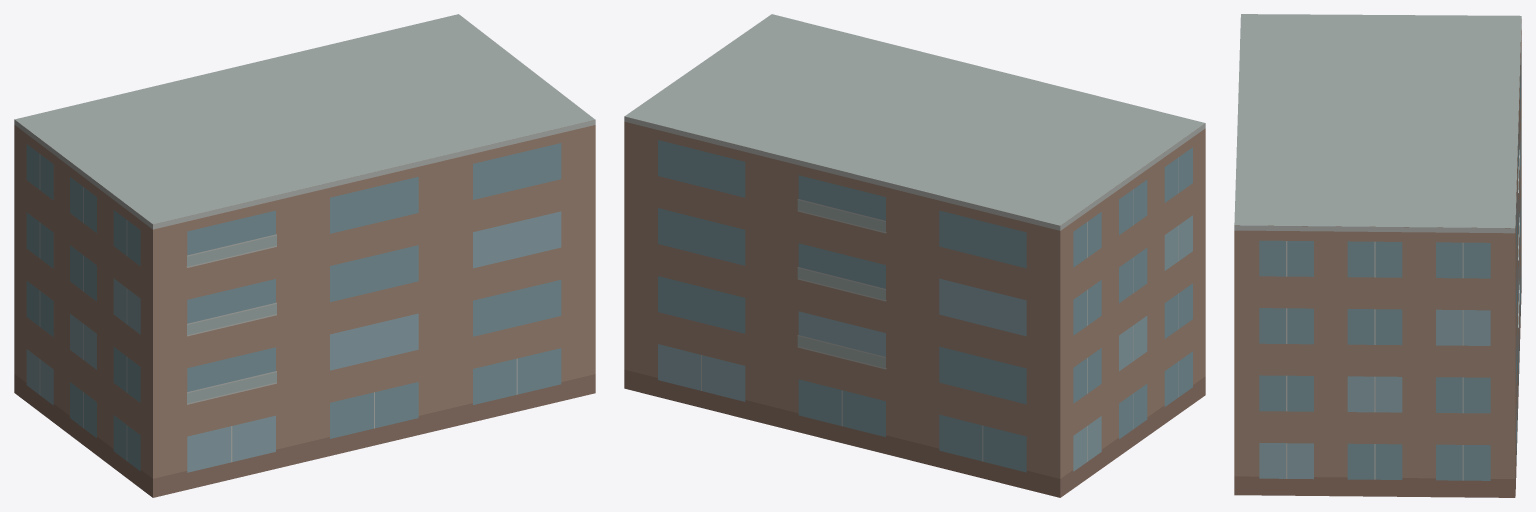
The model's file is survey-upis-32770764.glb.
The picture shows the model from 3 angles, left to right: view 1: azimuth 30°, elevation 25°; view 2: azimuth 150°, elevation 25°; view 3: azimuth 270°, elevation 25°; orthographic projection.
Visible parts, largest first — view 1: survey-upis-32770764.tmp; view 2: survey-upis-32770764.tmp; view 3: survey-upis-32770764.tmp.
Boxes of the visible parts, x1,y1,x2,y2 form: survey-upis-32770764.tmp: [14, 14, 595, 497]; survey-upis-32770764.tmp: [624, 14, 1205, 497]; survey-upis-32770764.tmp: [1234, 14, 1521, 497].
Size of the model in its own units: 21.98 by 12.9 by 12.46.
